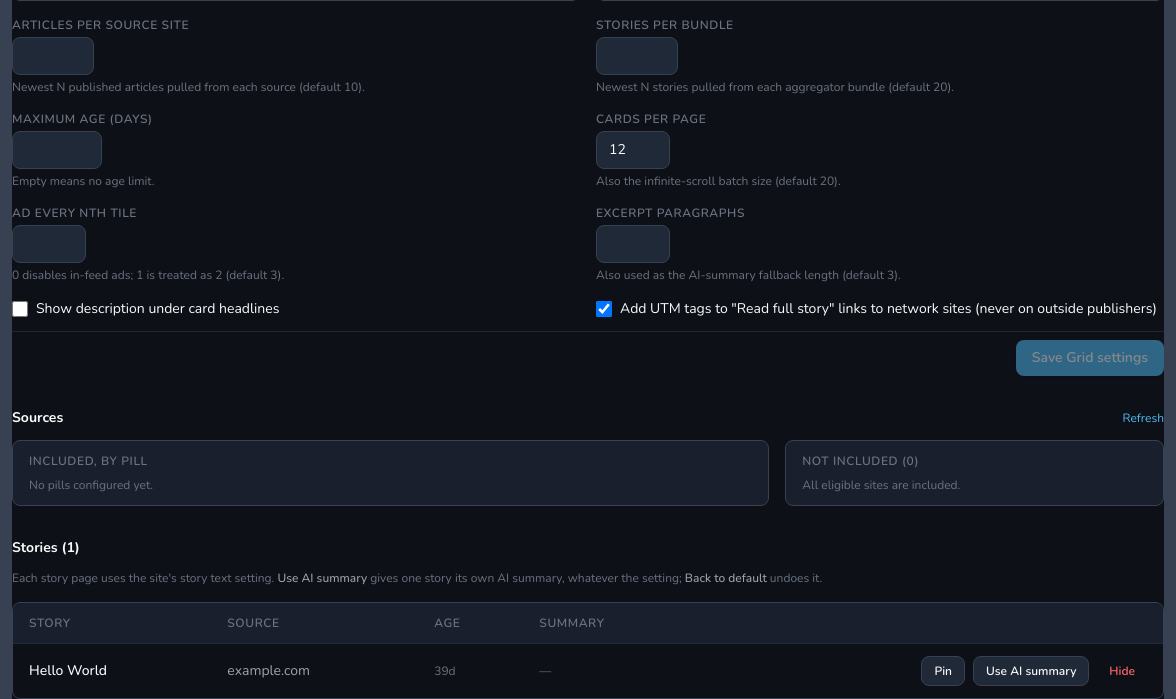
it: GridSiteTab — Use AI summary › requests a pinned summary for the story and marks the row as syncing
(page scrolled)
Click the button with aria-label "Use AI summary for Hello World" at [1031, 671], box 973,656 -> 1089,686
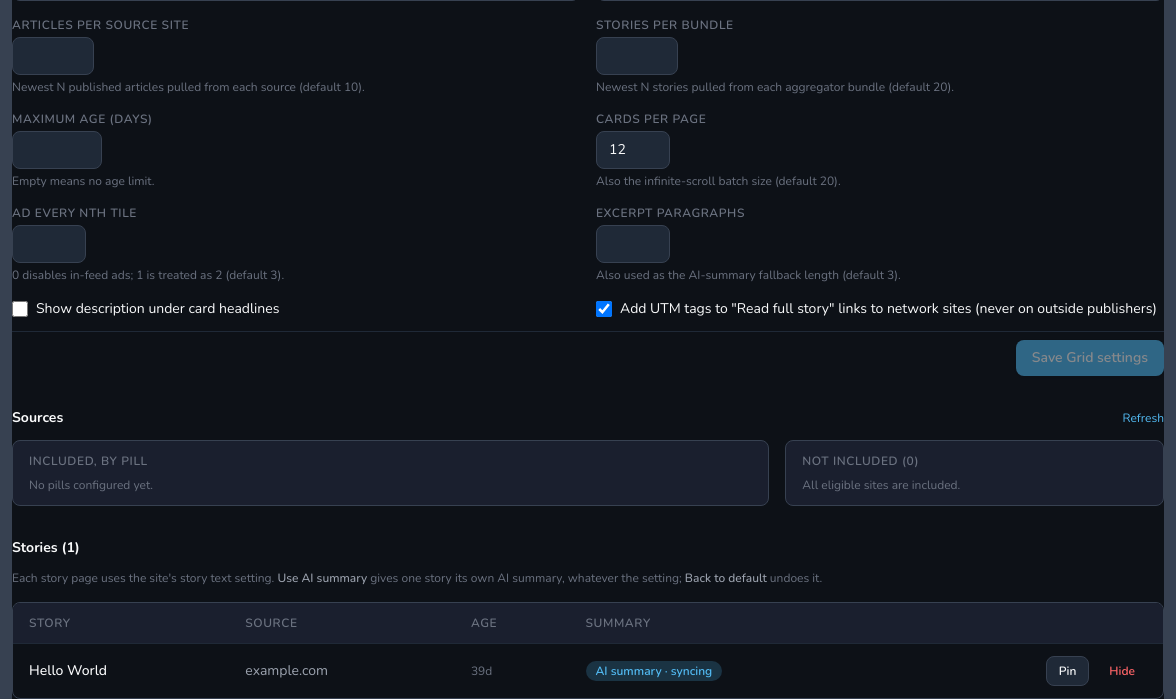
Check: the text "AI summary · syncing" is shown, box 586,661 -> 722,681
